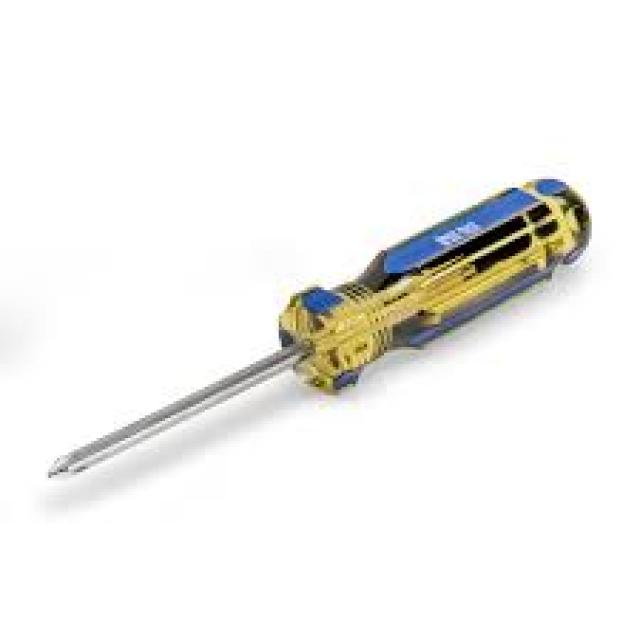Screwdriver: (52, 180, 591, 477)
